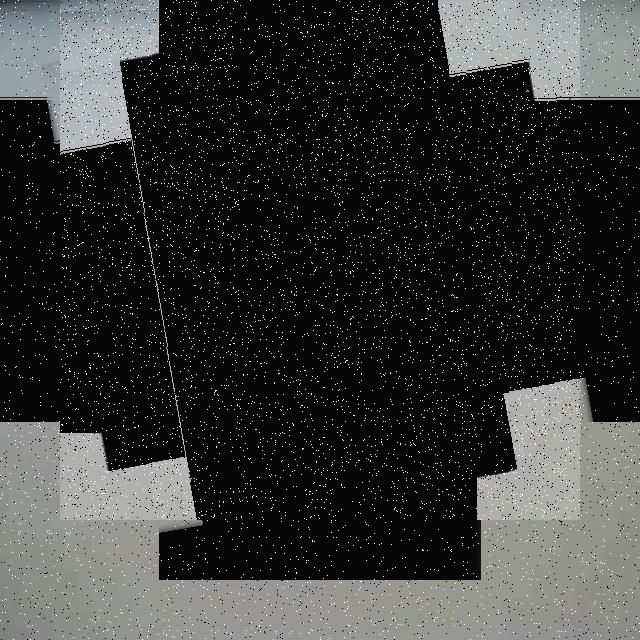dua puluh ribu rupiah: (60, 0, 580, 520)
